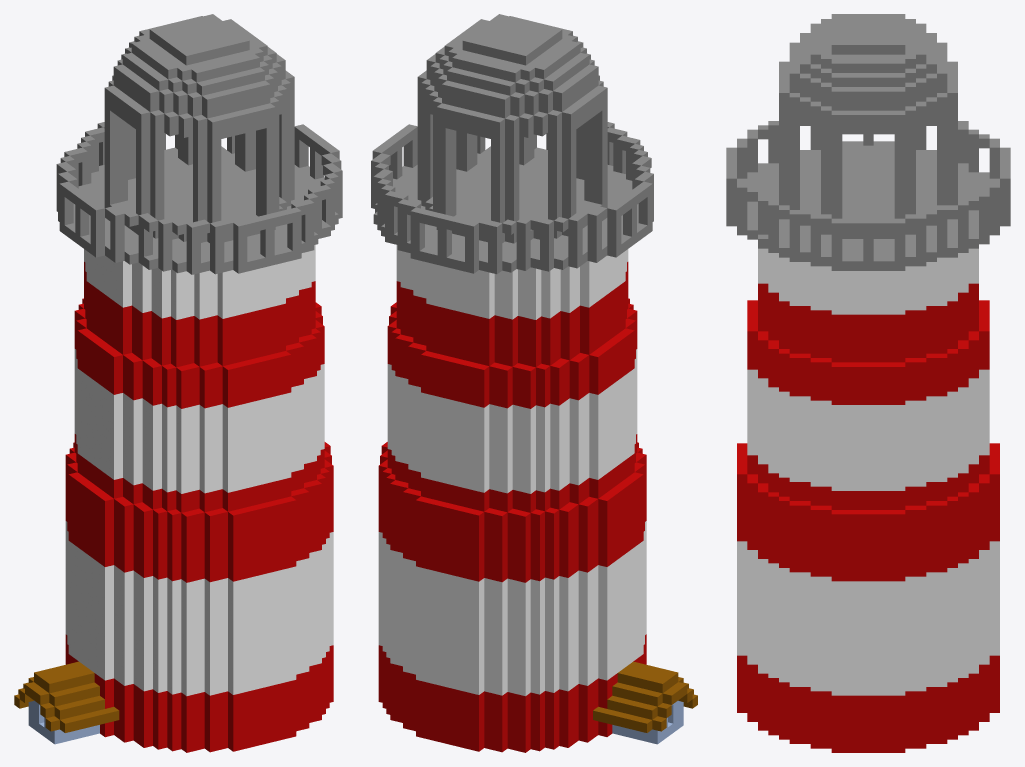
The model's file is Faro.fbx.
The picture shows the model from 3 angles, left to right: view 1: azimuth 30°, elevation 25°; view 2: azimuth 150°, elevation 25°; view 3: azimuth 270°, elevation 25°; orthographic projection.
Parts seen in each view (by area): view 1: faro_32x70x27; view 2: faro_32x70x27; view 3: faro_32x70x27.
Part boxes in pixels (bbox=[...]): faro_32x70x27: bbox=[14, 14, 342, 752]; faro_32x70x27: bbox=[371, 14, 697, 752]; faro_32x70x27: bbox=[726, 14, 1010, 752].
Size of the model in its own units: 464 by 1014 by 391.
